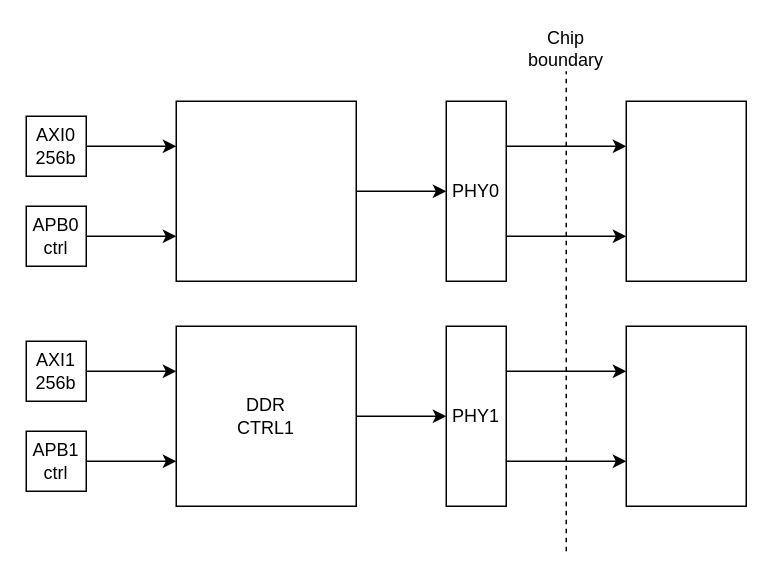
The diagram is 773 pixels wide and 579 high, and some of its shapes have lost their labels. Each missing label, with the centre of its shape:
DDR CTRL0: (265,190)
SDRAM0 x32: (685,190)
SDRAM1 x32: (685,415)
